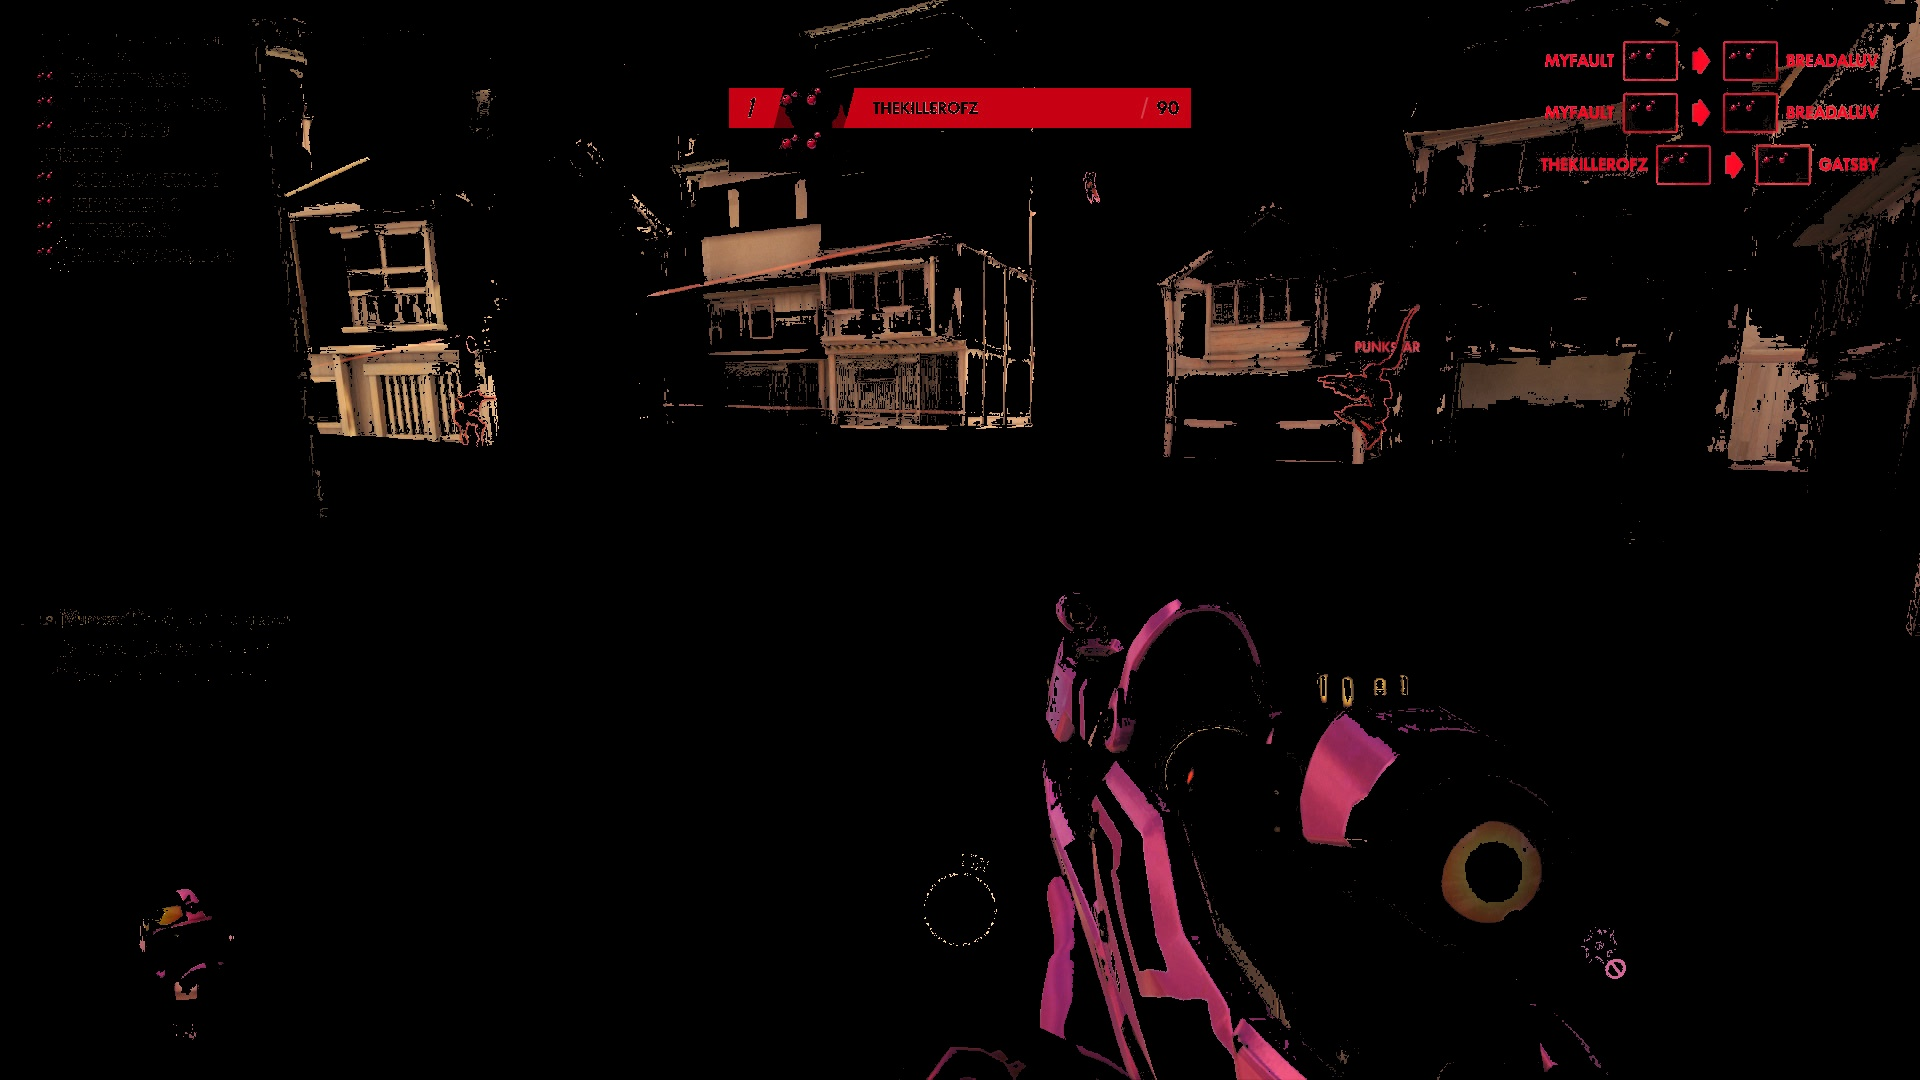widowmaker: (1320, 355, 1406, 465)
